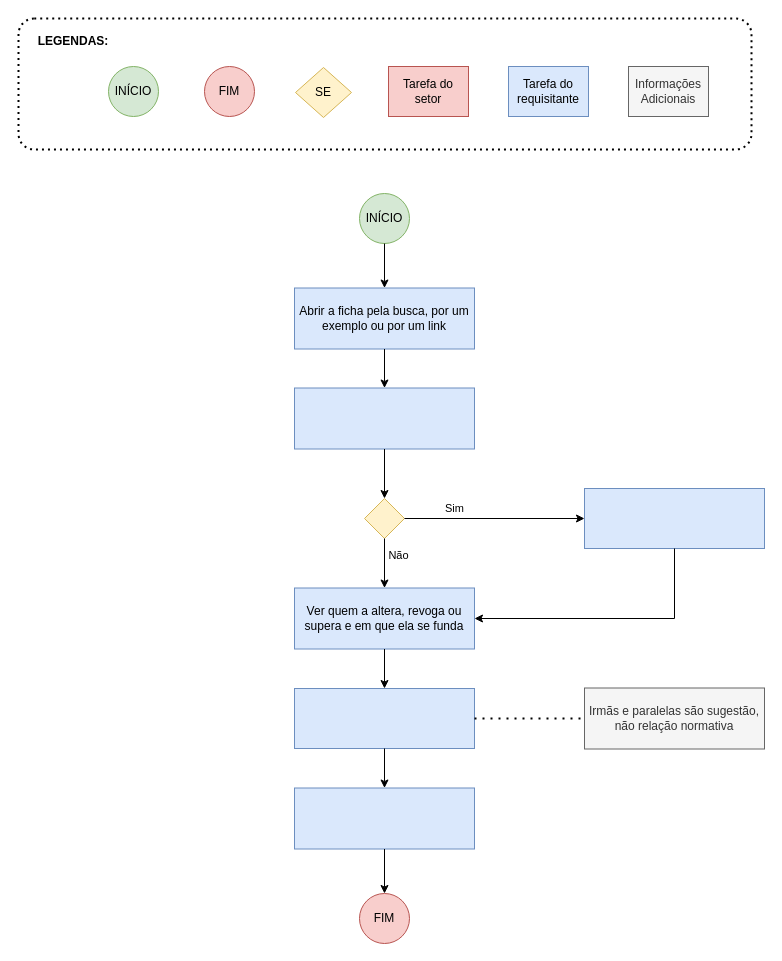
Image size: 782x961. Some labels were removed from this diagram. Here are the shapes that lost their labels. From the top down, the centre of each, then its label:
(x=384, y=418): Ler a situação de vigência e a base da situação
(x=384, y=518): Texto por OCR?
(x=674, y=518): Conferir números e datas no PDF oficial (Fonte)
(x=384, y=718): Consultar as relações por dispositivo desta norma
(x=384, y=818): Abrir o texto integral (FAROL04) ou a Teia (FAROL05)
